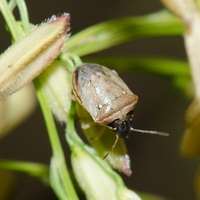insect: (72, 63, 137, 133)
